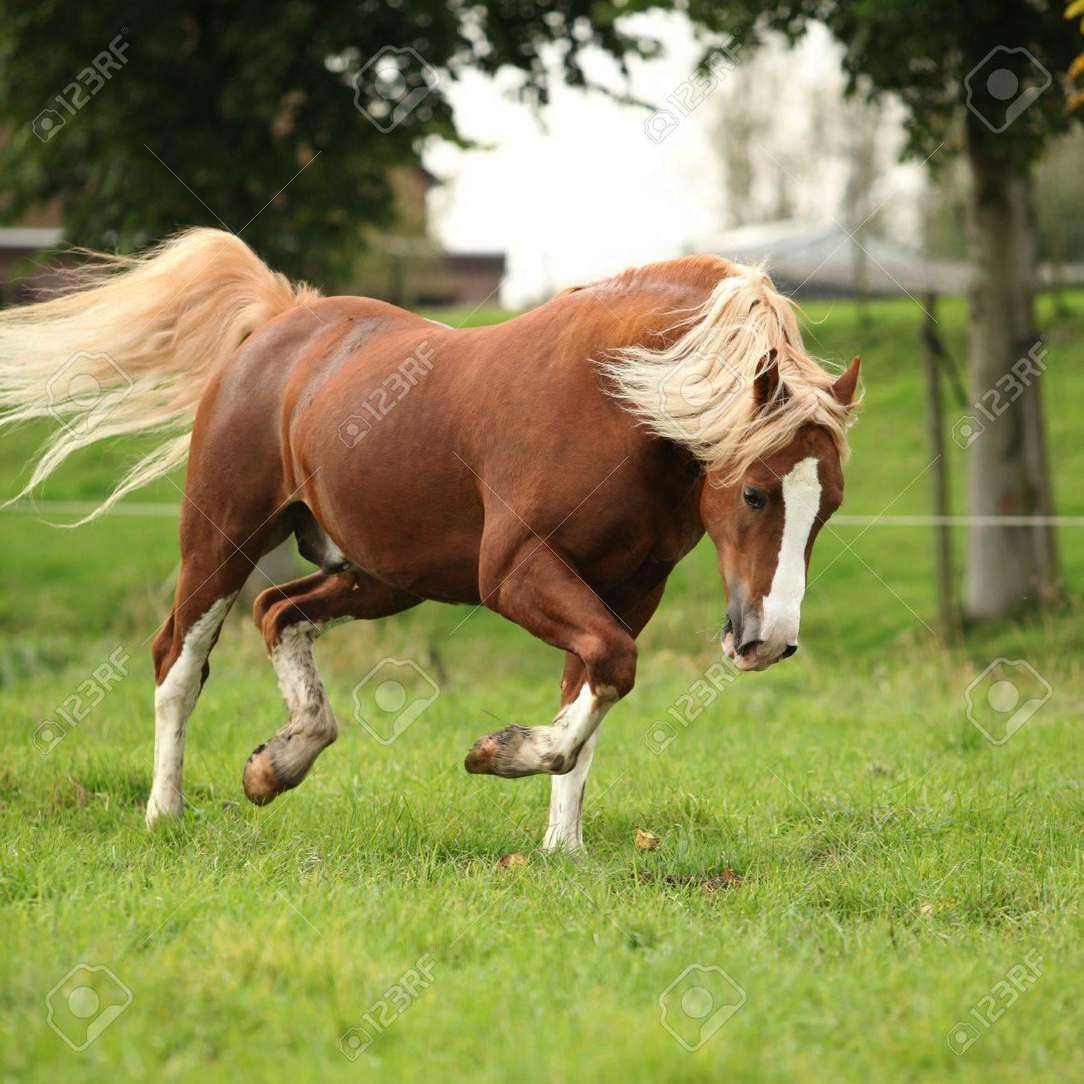horse: (0, 207, 878, 876)
